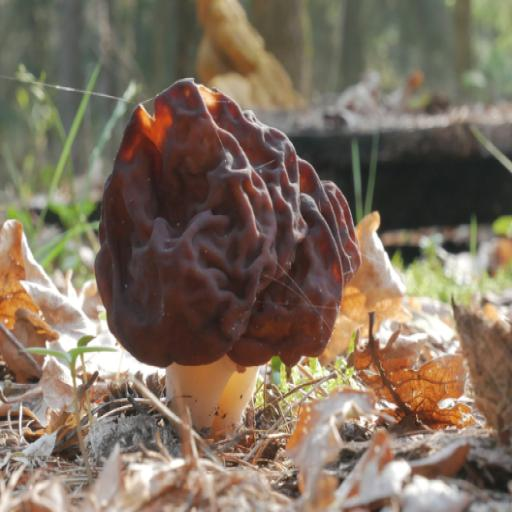False Morel: (19, 67, 400, 449)
